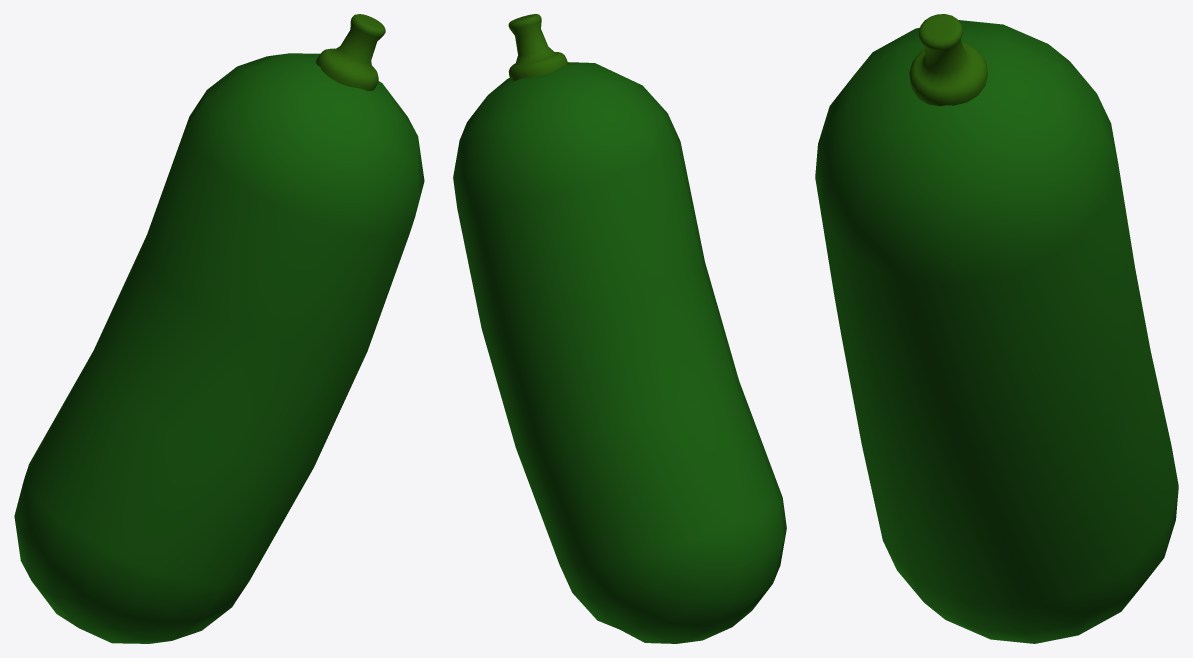
File: Cucumber.glb
3 renders of one model, left to right at view 1: azimuth 30°, elevation 25°; view 2: azimuth 150°, elevation 25°; view 3: azimuth 270°, elevation 25°, orthographic. The views are drawn at different scales.
Visible parts, largest first — view 1: Cucumber; view 2: Cucumber; view 3: Cucumber.
Boxes of the visible parts, x1=… form: Cucumber: x1=14, y1=14, x2=424, y2=643; Cucumber: x1=453, y1=14, x2=786, y2=643; Cucumber: x1=815, y1=14, x2=1178, y2=643.
Bounding box in the file's own units: 5.75 × 9.32 × 4.25.
